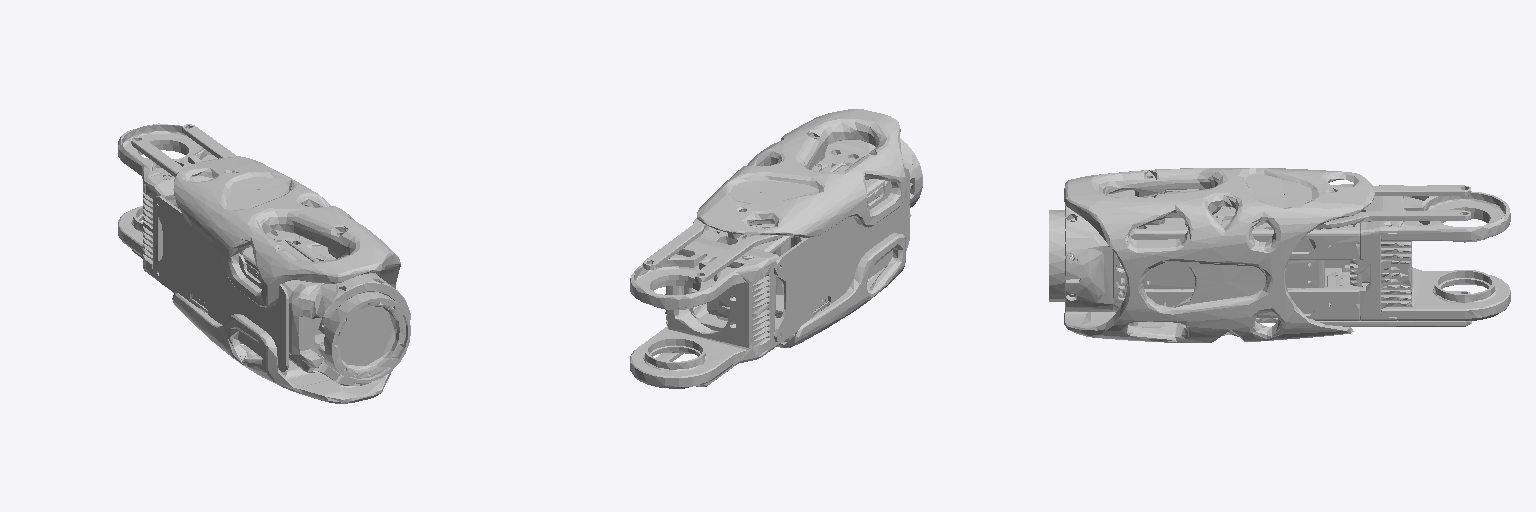
Rendered from wristYawRight.obj.
3 views of the same model, side by side, from view 1: azimuth 30°, elevation 25°; view 2: azimuth 150°, elevation 25°; view 3: azimuth 270°, elevation 25° (orthographic).
Visible parts, largest first — view 1: wristYawRight; view 2: wristYawRight; view 3: wristYawRight.
Part boxes in pixels (left/top/right/bottom): wristYawRight: left=118, top=123, right=410, bottom=403; wristYawRight: left=630, top=109, right=922, bottom=388; wristYawRight: left=1049, top=168, right=1510, bottom=342.
Size of the model in its own units: 0.0725 by 0.0761 by 0.2264.